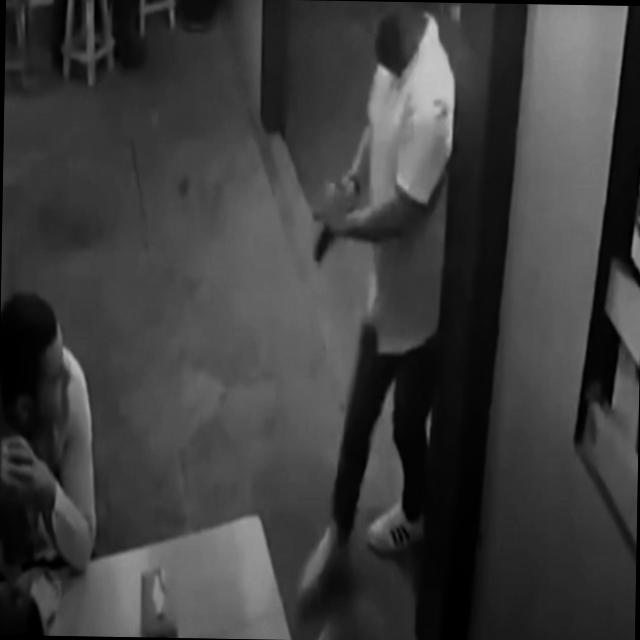gun: (313, 226, 331, 267)
person: (0, 289, 100, 579)
person with a gun: (299, 0, 456, 607)
